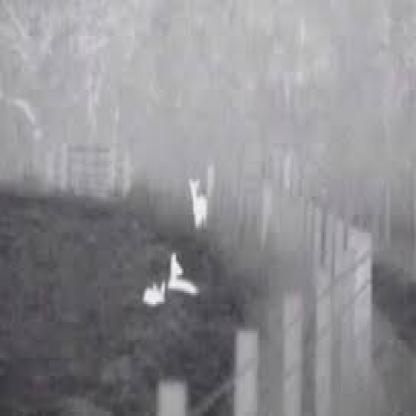rehkitze: (166, 255, 197, 293), (186, 181, 209, 229), (141, 282, 164, 308)
